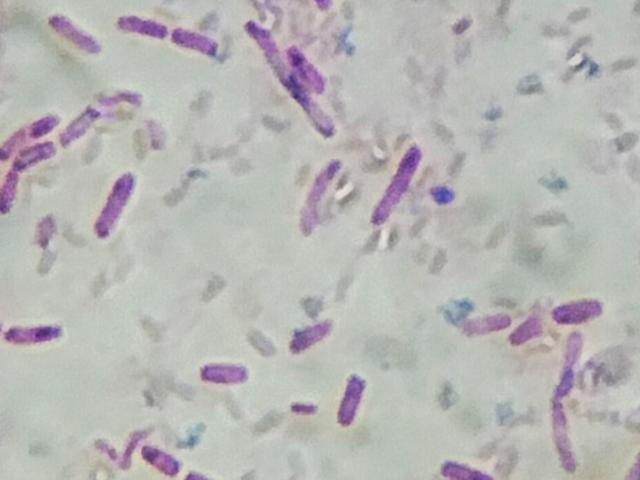E. coli: (368, 142, 423, 224), (293, 159, 351, 230), (273, 73, 331, 134), (93, 165, 140, 238), (542, 397, 583, 471), (169, 19, 227, 62), (45, 10, 98, 55), (332, 369, 369, 429), (2, 320, 71, 351), (285, 319, 339, 358), (551, 333, 583, 398), (4, 109, 59, 144), (193, 359, 253, 391), (115, 6, 168, 41), (553, 292, 607, 326), (438, 451, 500, 480), (62, 107, 108, 146), (458, 300, 506, 337), (252, 25, 289, 71), (288, 43, 325, 89), (138, 440, 180, 477), (513, 303, 543, 354), (17, 142, 60, 175), (2, 165, 24, 215), (282, 399, 320, 419), (179, 463, 210, 480)
